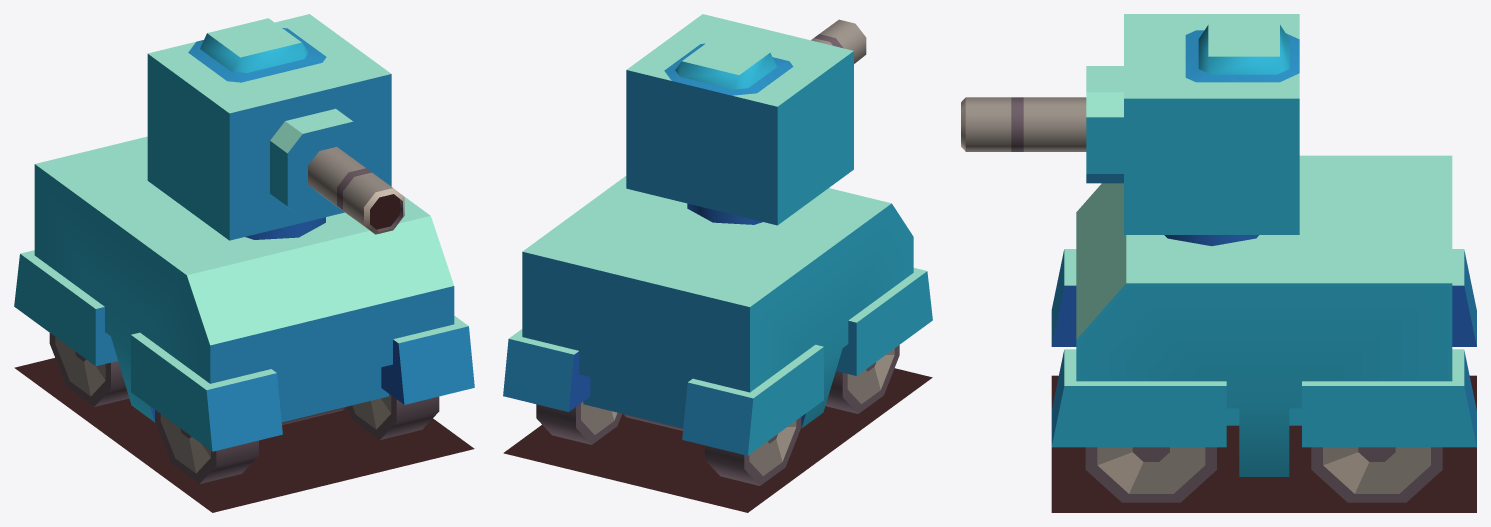
File: ReconMesh.AzureAsteroid.glb
The picture shows the model from 3 angles, left to right: view 1: azimuth 30°, elevation 25°; view 2: azimuth 150°, elevation 25°; view 3: azimuth 270°, elevation 25°; orthographic projection. The views are drawn at different scales.
Parts seen in each view (by area): view 1: ReconMesh.AzureAsteroid; view 2: ReconMesh.AzureAsteroid; view 3: ReconMesh.AzureAsteroid.
Boxes of the visible parts, <box> form: ReconMesh.AzureAsteroid: <box>14,14,474,512</box>; ReconMesh.AzureAsteroid: <box>503,14,932,512</box>; ReconMesh.AzureAsteroid: <box>961,14,1476,512</box>.
Size of the model in its own units: 1.29 by 1.79 by 2.06.
1 material, 1 textured.
